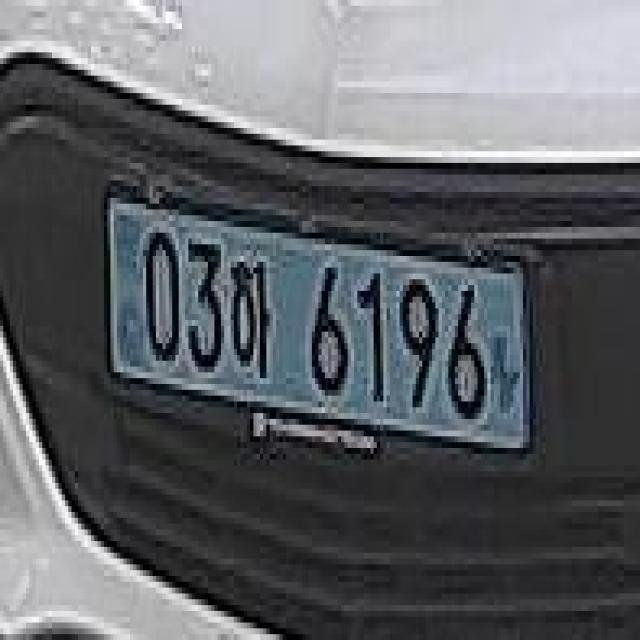EV_plate: (98, 167, 537, 482)
